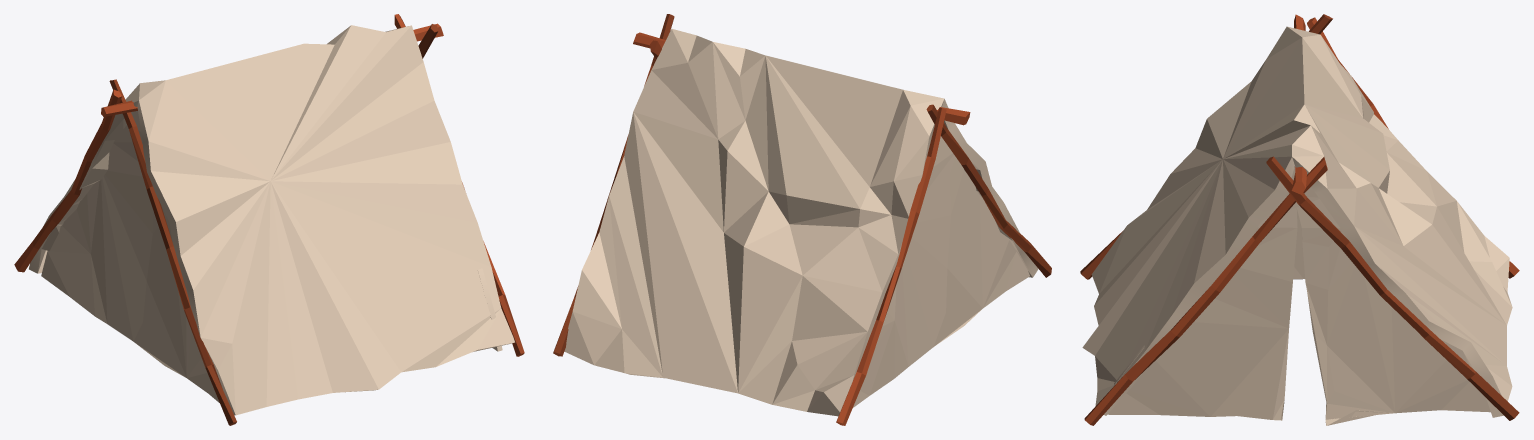
The model's file is Tent_002.FBX.
3 views of the same model, side by side, from view 1: azimuth 30°, elevation 25°; view 2: azimuth 150°, elevation 25°; view 3: azimuth 270°, elevation 25° (orthographic). The views are drawn at different scales.
Visible parts, largest first — view 1: Cylinder017, TentBack, Cylinder019, Cylinder020, Cylinder021, Cylinder022; view 2: Cylinder017, TentBack, Cylinder020, Cylinder019, Cylinder018, Cylinder022; view 3: Cylinder017, TentFont001, TentFrontEntrance, Cylinder018, Cylinder021, Cylinder019, Cylinder020, TentBack, Cylinder022.
Part boxes in pixels (x1,y1,x2,y2): Cylinder017: [29, 25, 514, 415]; TentBack: [41, 111, 219, 402]; Cylinder019: [109, 79, 236, 425]; Cylinder020: [14, 89, 121, 272]; Cylinder021: [394, 14, 524, 356]; Cylinder022: [101, 23, 443, 116]; Cylinder017: [564, 29, 1038, 416]; TentBack: [853, 136, 1029, 407]; Cylinder020: [836, 107, 946, 425]; Cylinder019: [926, 104, 1051, 277]; Cylinder018: [553, 14, 674, 356]; Cylinder022: [633, 32, 970, 125]; Cylinder017: [1082, 26, 1512, 417]; TentFont001: [1107, 166, 1297, 420]; TentFrontEntrance: [1296, 187, 1490, 425]; Cylinder018: [1266, 156, 1519, 420]; Cylinder021: [1084, 157, 1327, 425]; Cylinder019: [1080, 14, 1332, 279]; Cylinder020: [1307, 17, 1519, 278]; TentBack: [1293, 208, 1305, 279]; Cylinder022: [1291, 14, 1306, 194].
Size of the model in its own units: 30.96 by 23.32 by 34.11.
